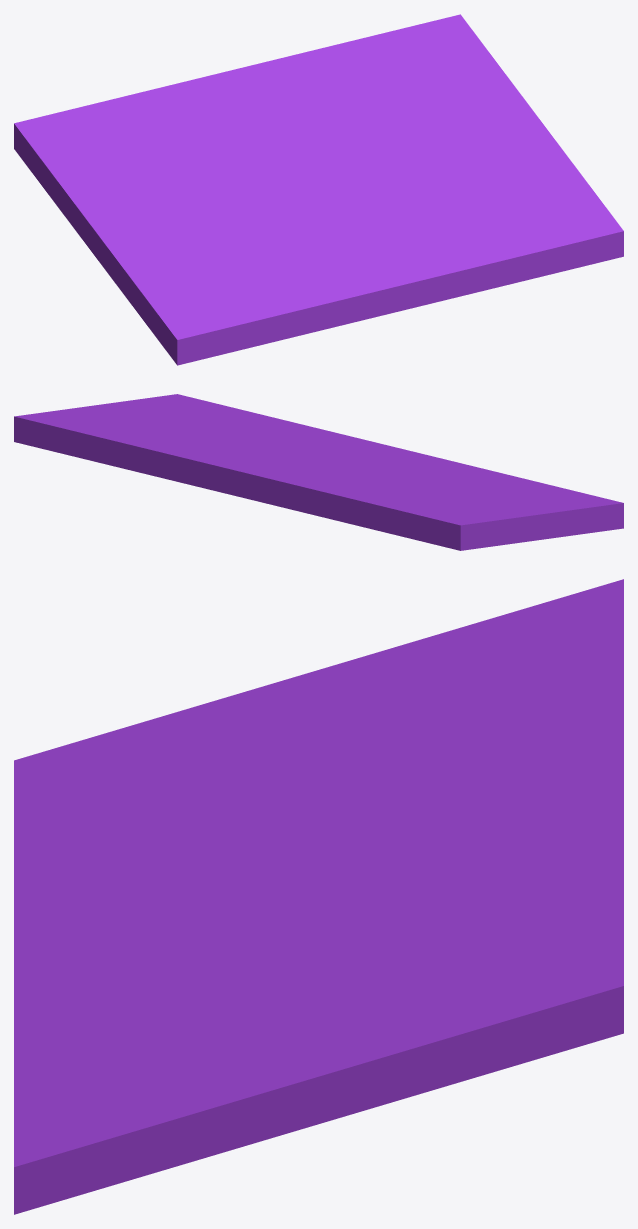
File: Window_146_chunks.fbx
The picture shows the model from 3 angles, top to bottom: view 1: azimuth 30°, elevation 25°; view 2: azimuth 150°, elevation 25°; view 3: azimuth 270°, elevation 25°; orthographic projection. The views are drawn at different scales.
Visible parts, largest first — view 1: Window_146_0, Window_146_2, Window_146_3; view 2: Window_146_0, Window_146_3, Window_146_2; view 3: Window_146_0, Window_146_3, Window_146_2, Window_146_1.
Boxes of the visible parts, box(x1,y1,x2,y2) form: Window_146_0: box(14, 90, 317, 365); Window_146_2: box(299, 127, 623, 335); Window_146_3: box(151, 14, 544, 182); Window_146_0: box(308, 460, 623, 550); Window_146_3: box(14, 405, 326, 513); Window_146_2: box(99, 394, 501, 473); Window_146_0: box(14, 579, 623, 872); Window_146_3: box(306, 704, 623, 1091); Window_146_2: box(14, 871, 314, 1214); Window_146_1: box(289, 1091, 427, 1132).
Size of the model in its own units: 1838 by 482 by 1165.
